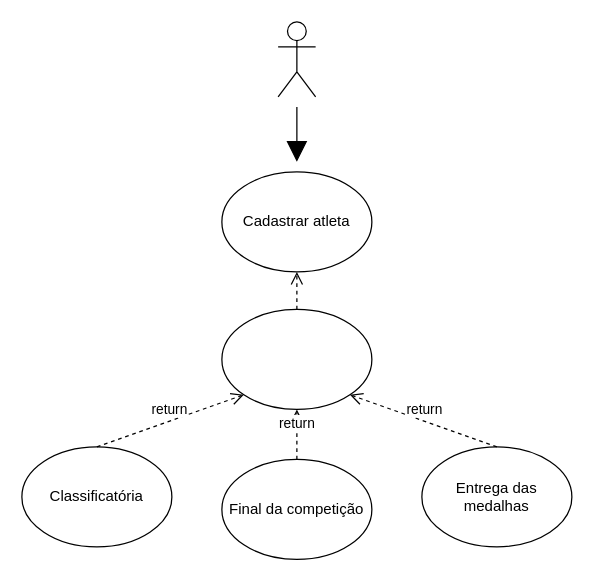
Image size: 594x581. Some labels were removed from this diagram. Each missing label, with the centre of its shape:
Competição: pixel 296 358
Organizador: pixel 296 59
